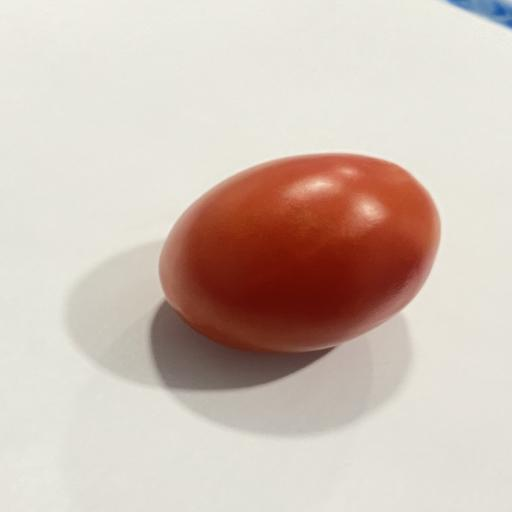ripe: (159, 153, 440, 353)
